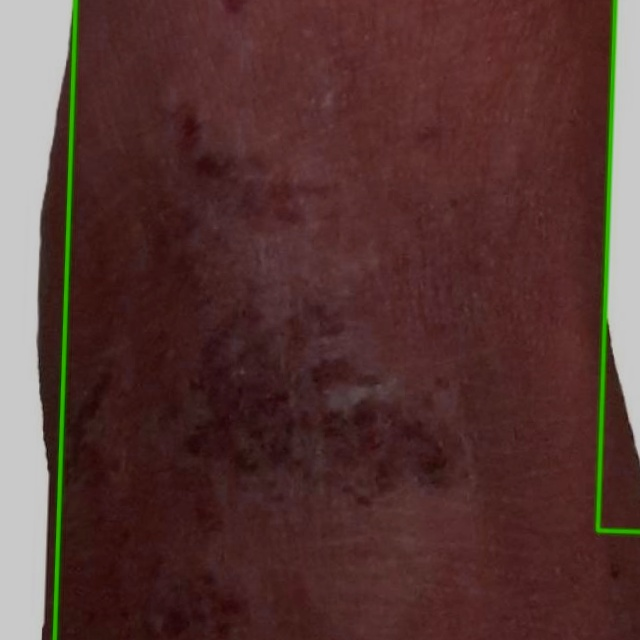Contact Dermatitis: (0, 0, 75, 639)
